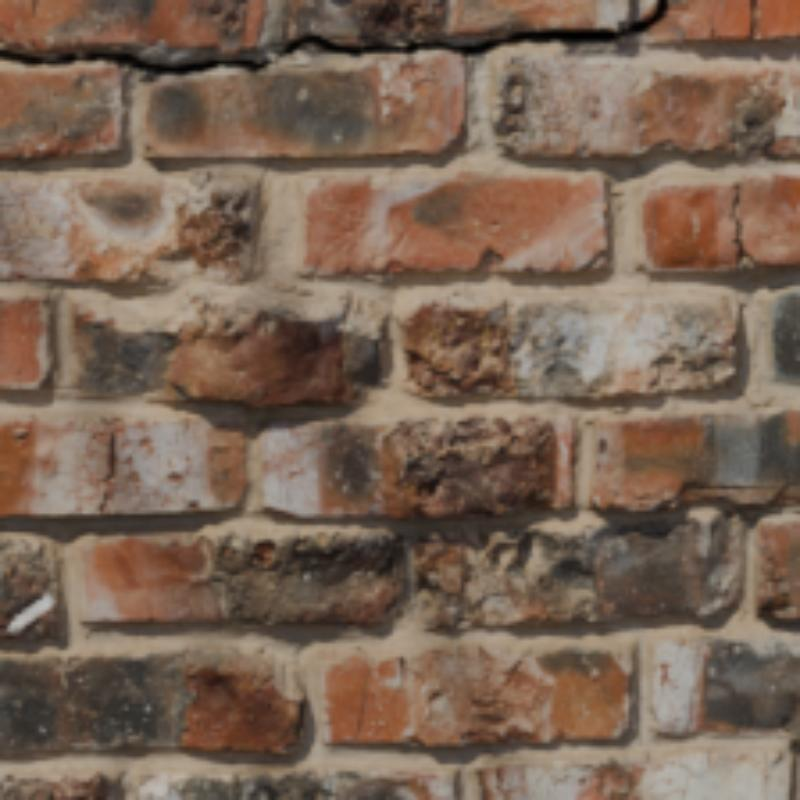crack: (0, 0, 668, 71), (100, 432, 118, 511), (732, 186, 743, 243), (739, 246, 754, 264)
